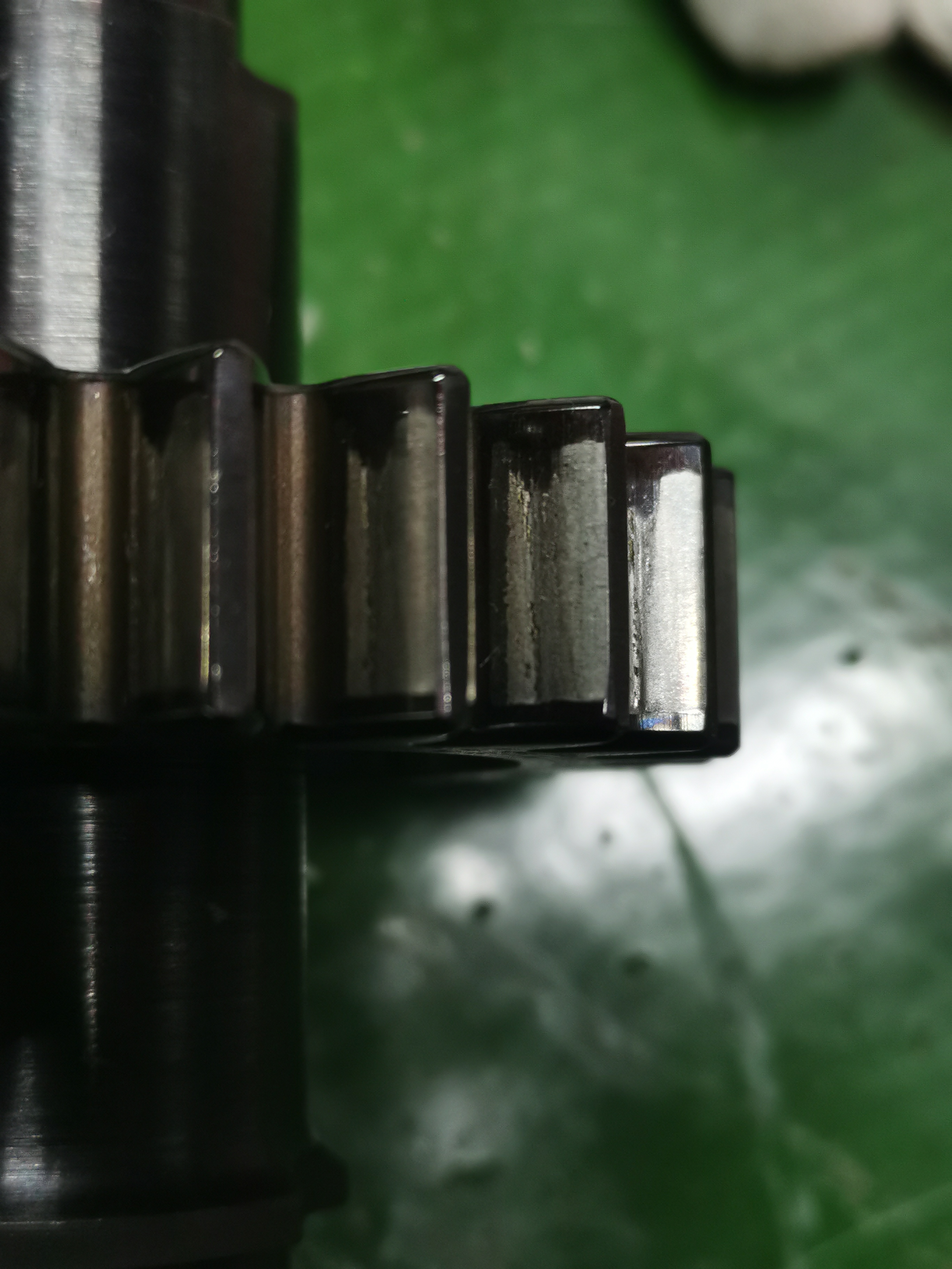Abrasion: (324, 373, 446, 713), (484, 401, 608, 725), (120, 355, 213, 704), (629, 446, 707, 734)
